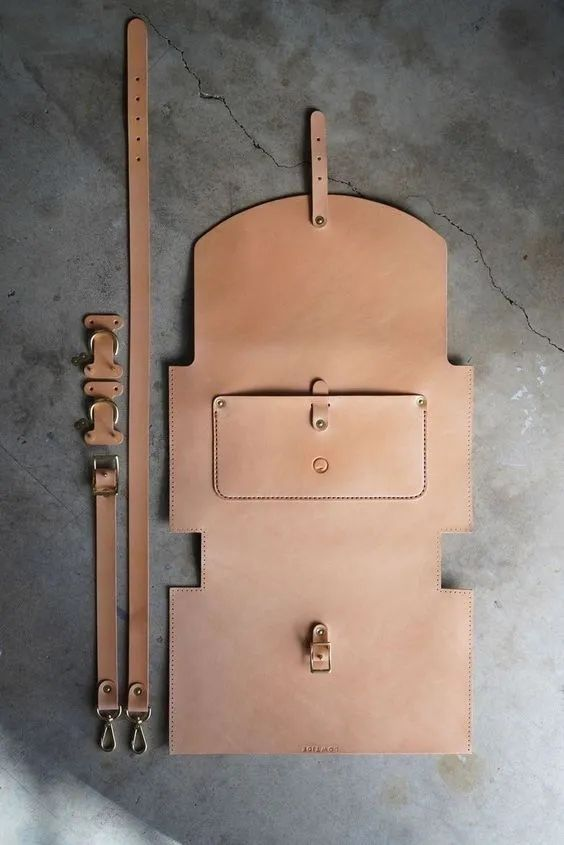cuero: (86, 16, 475, 756)
